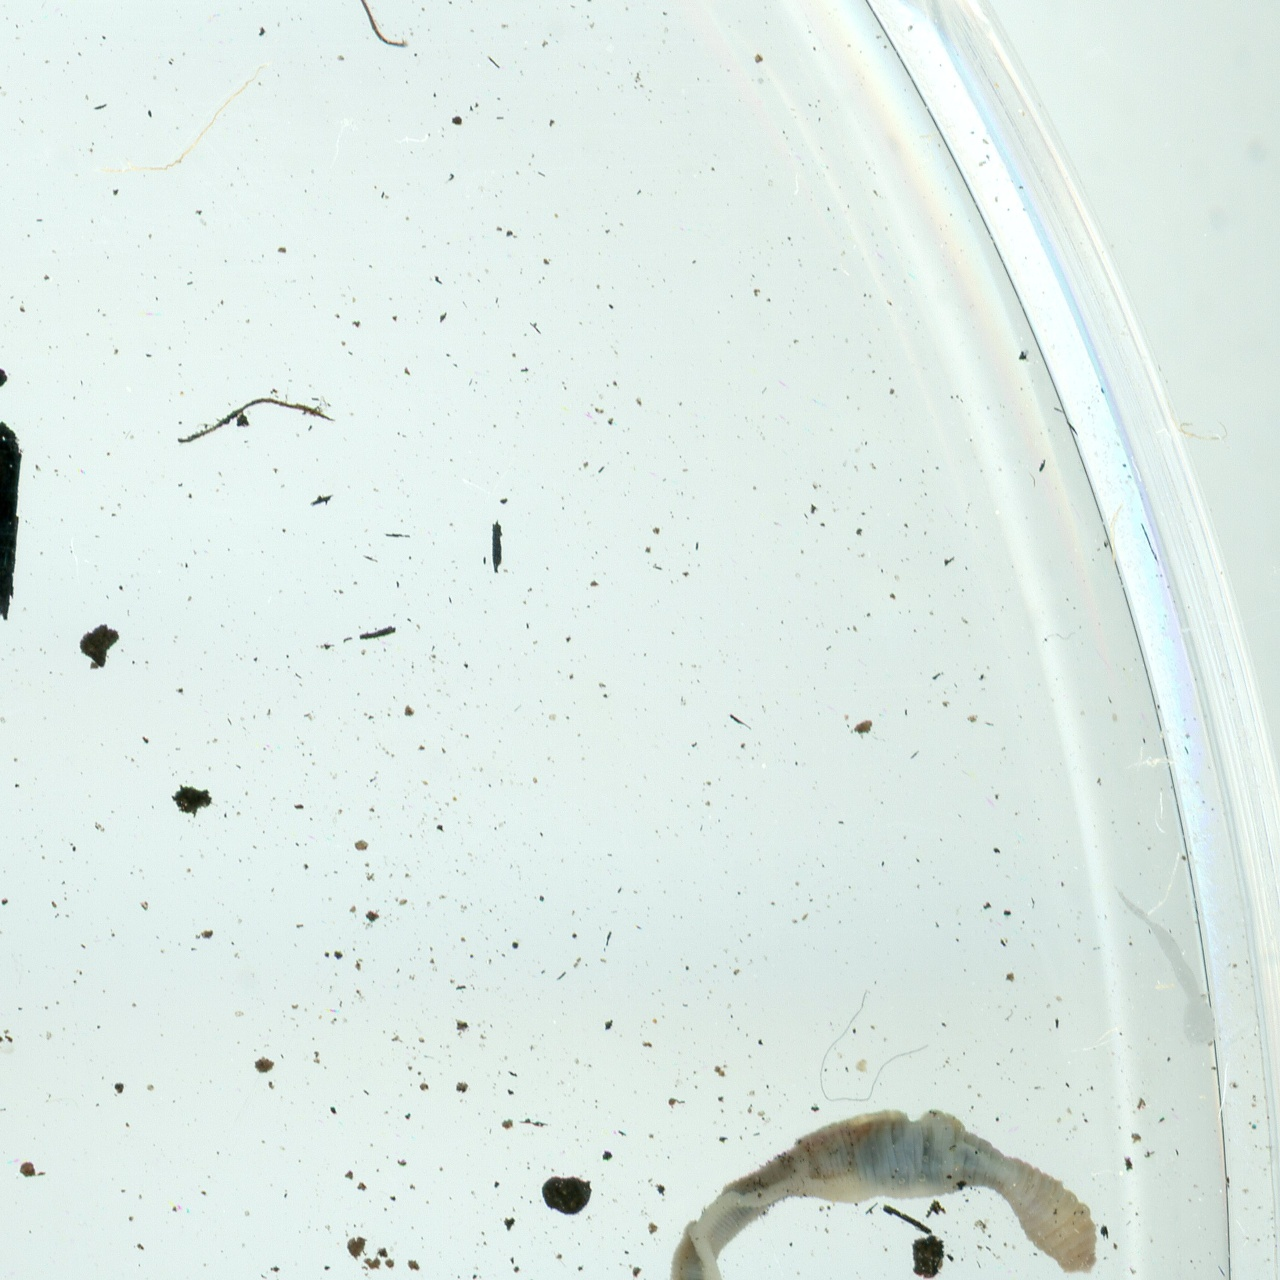arthropod: (664, 1104, 1106, 1280), (183, 0, 608, 69)
